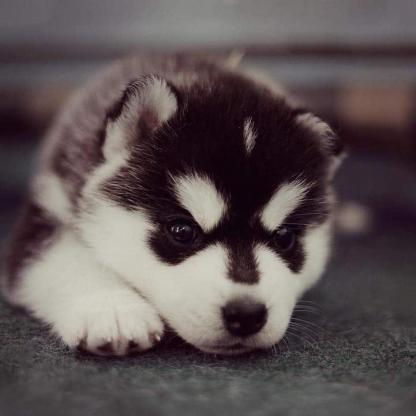husky: (0, 47, 340, 357)
